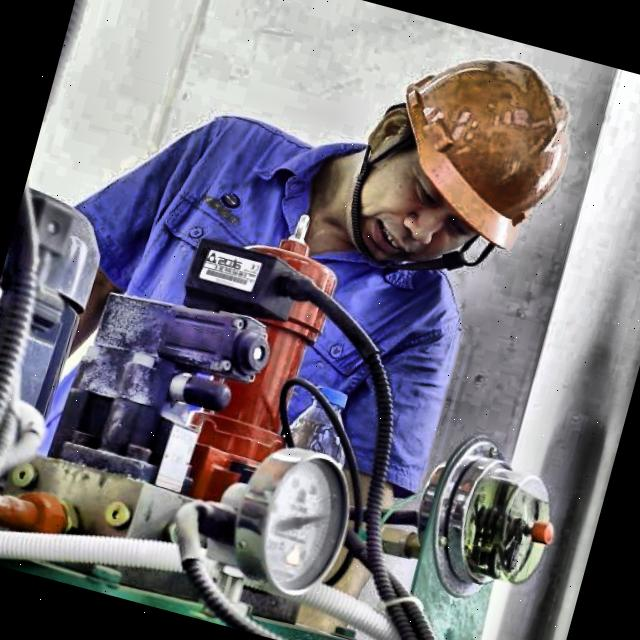helmet: (307, 18, 604, 315)
